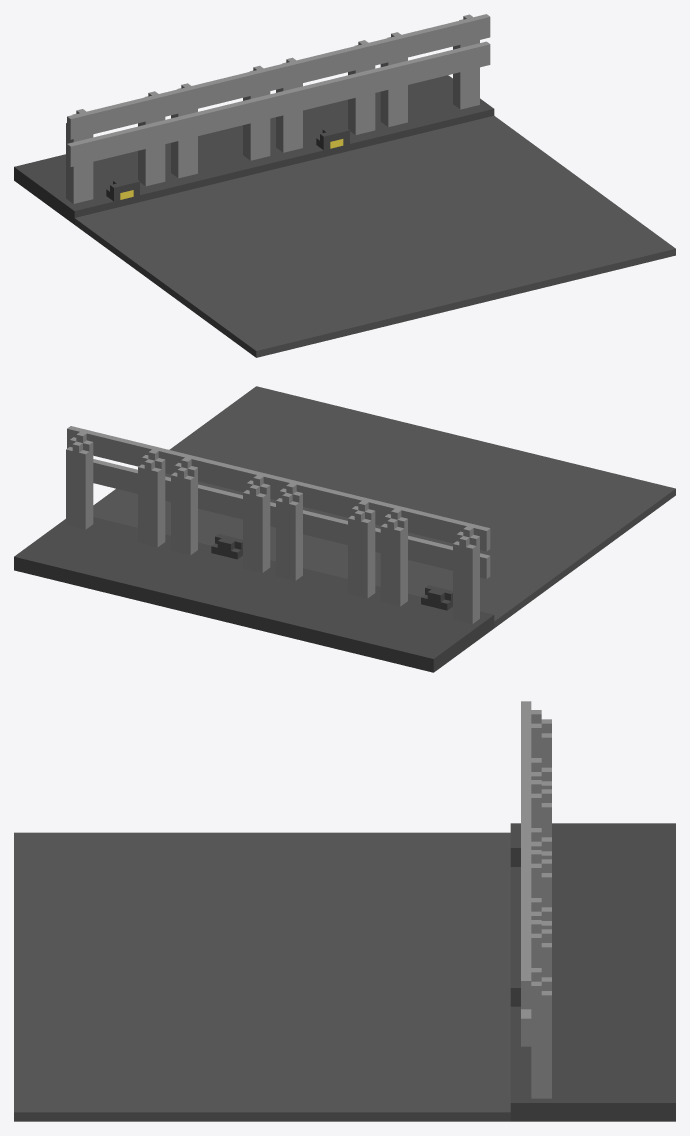
The model's file is Tutorialmap_V2_unfinished-59.obj.
3 views of the same model, one above another, from view 1: azimuth 30°, elevation 25°; view 2: azimuth 150°, elevation 25°; view 3: azimuth 270°, elevation 25° (orthographic). The views are drawn at different scales.
Size of the model in its own units: 6.4 by 1.5 by 6.4.
Materials: 1 (1 with a texture image).
